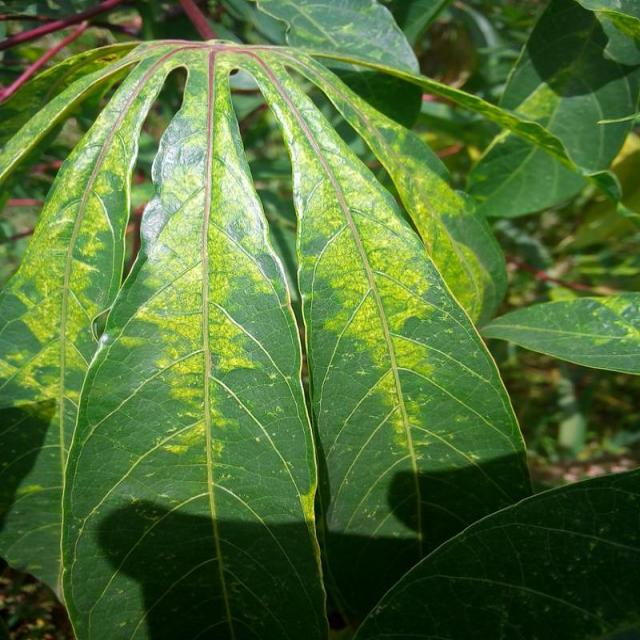cassava leaf: (2, 36, 535, 637)
